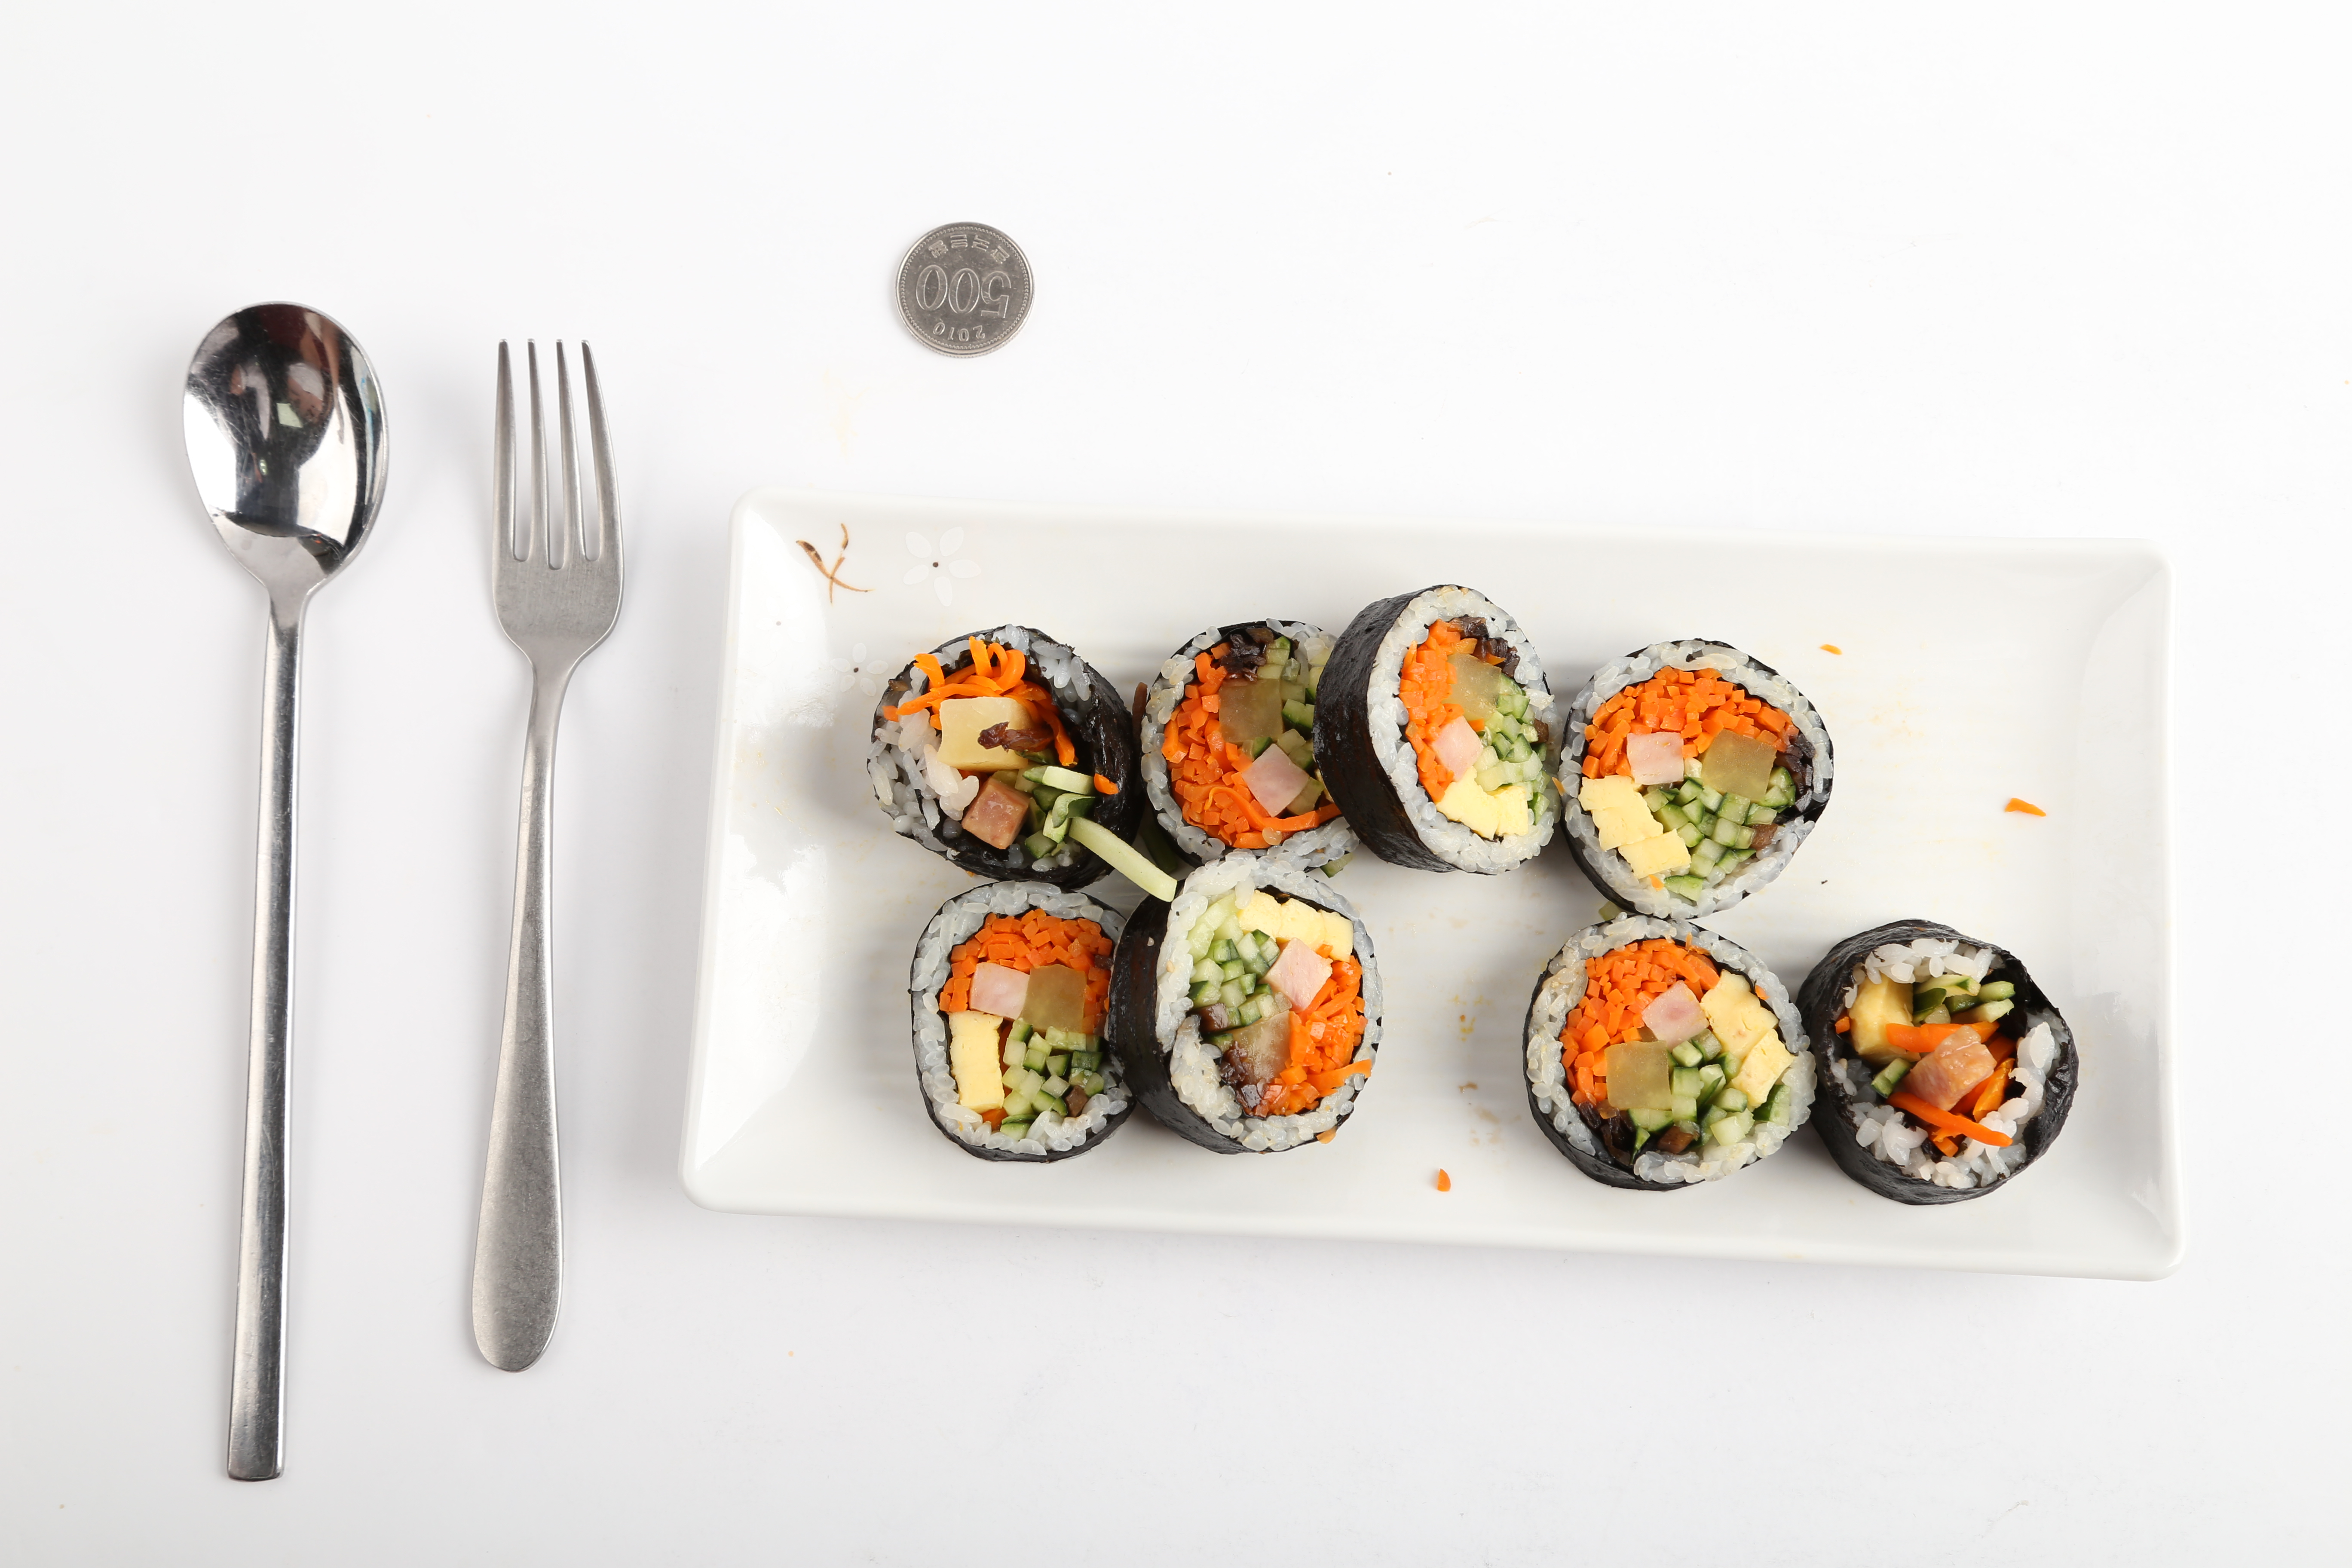dish: (679, 485, 2187, 1279)
ref_coin: (891, 217, 1036, 360)
ref_fork: (485, 331, 630, 721)
ref_spoon: (177, 296, 392, 651)
김밥: (863, 577, 2086, 1209)
